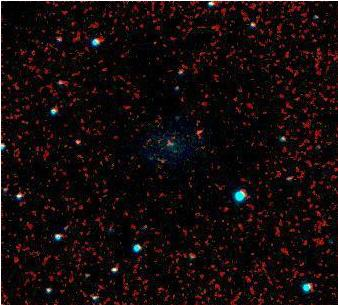star: (185, 117, 215, 147)
